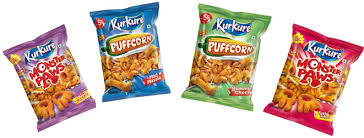kurkure: (307, 36, 344, 66), (104, 14, 154, 30), (217, 17, 252, 37), (22, 45, 56, 54)
plastic: (10, 33, 87, 133), (96, 9, 168, 100), (293, 25, 343, 136), (207, 8, 255, 117)
wrapper: (278, 18, 350, 134), (4, 40, 91, 130), (91, 8, 170, 98), (201, 6, 261, 112)
